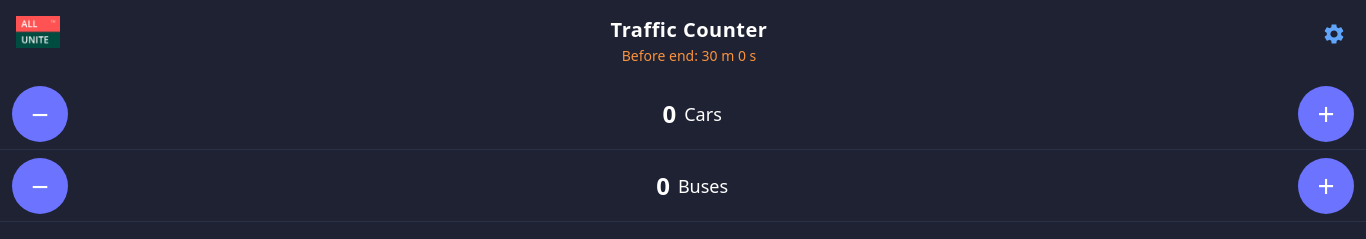
it: App – active phase › increments count on + press
This screenshot has width=1366, height=239.
expect the text "0" next to "Cars" is shown: met, box [662, 96, 676, 130]
Press the mouse on the button named "Increase Cars" at [1326, 114], box [1298, 86, 1354, 142]
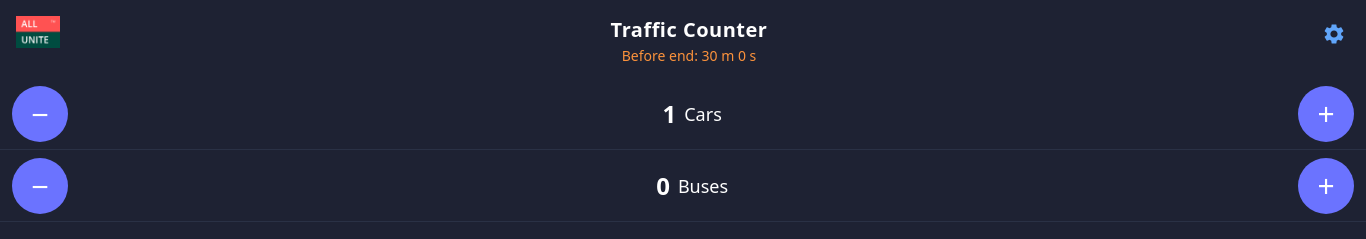
expect the text "1" is shown: met, box [662, 96, 676, 130]
